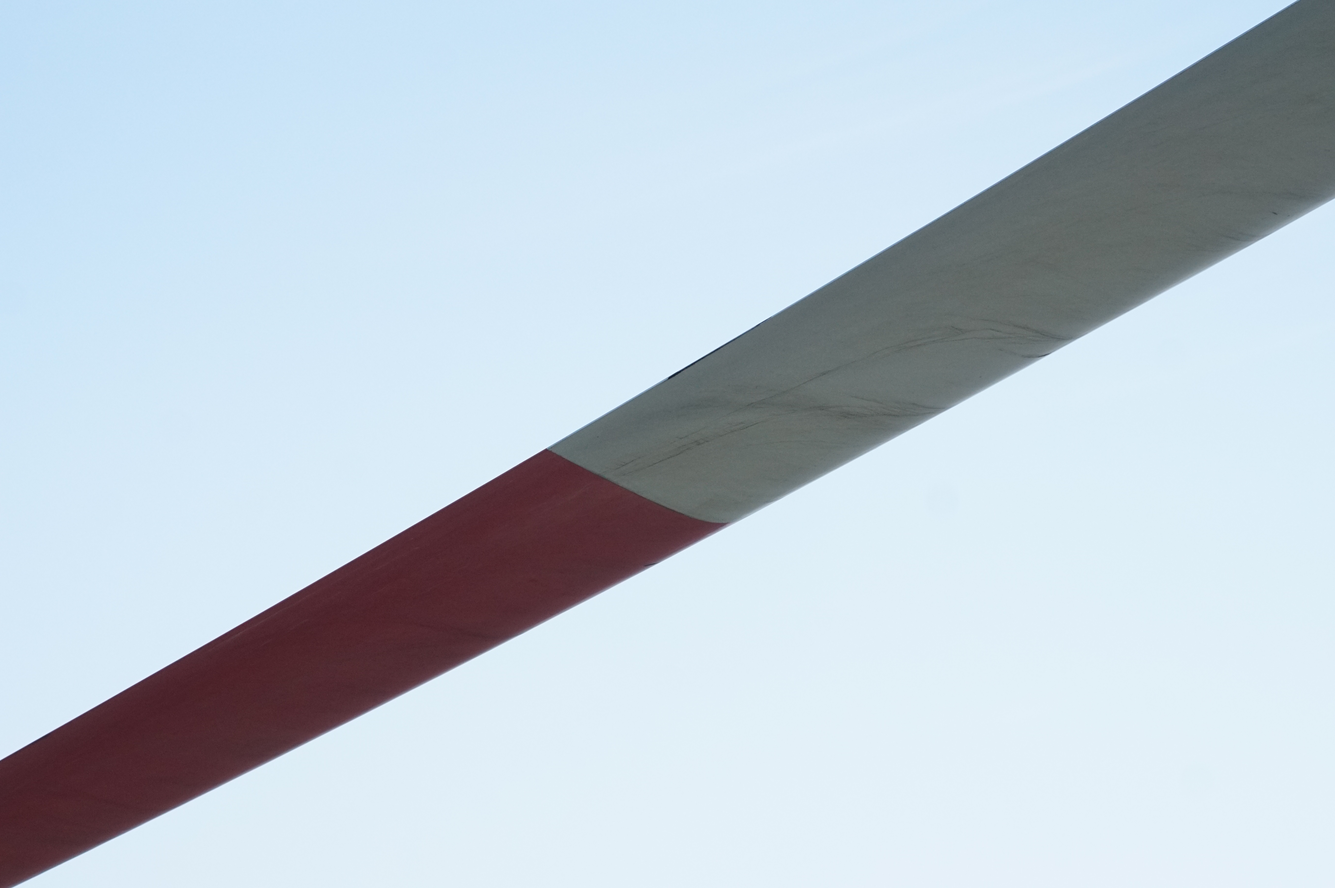Damage: (665, 313, 776, 382)
